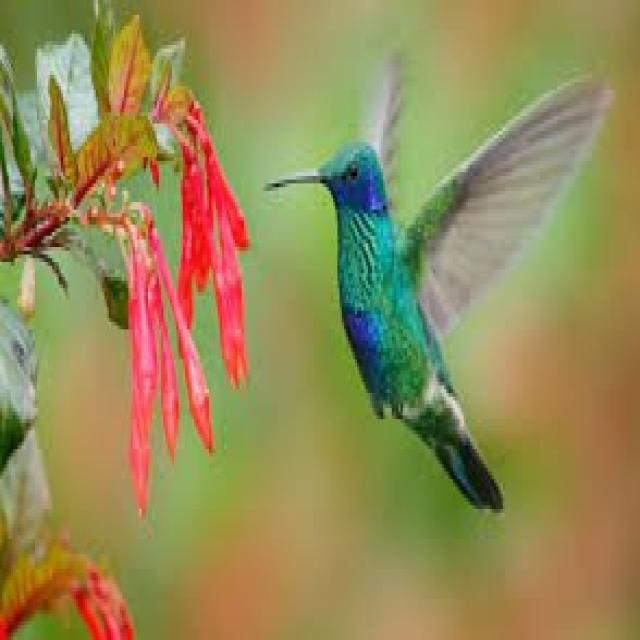Humming Bird: (262, 65, 606, 528)
